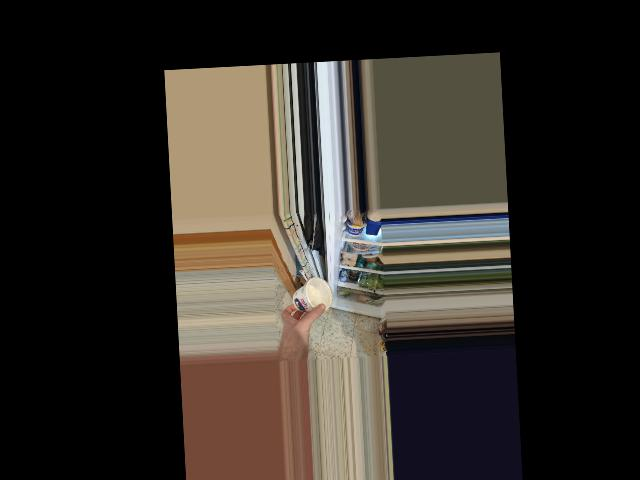cotage: (290, 272, 333, 317)
